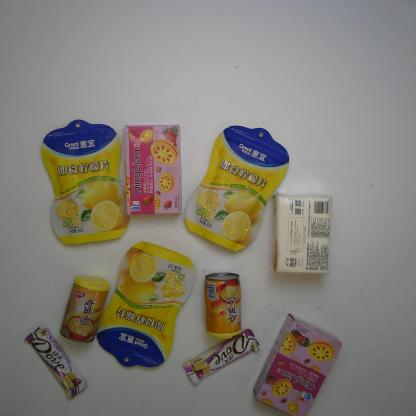Canned Food: (60, 273, 110, 342), (203, 272, 243, 340)
Chocolate: (25, 327, 86, 402), (183, 328, 260, 386)
Dessert: (254, 313, 341, 415), (124, 123, 183, 215)
Dried Fruit: (183, 125, 290, 252), (96, 240, 195, 368), (40, 119, 132, 245)
Tissue: (272, 192, 333, 274)
